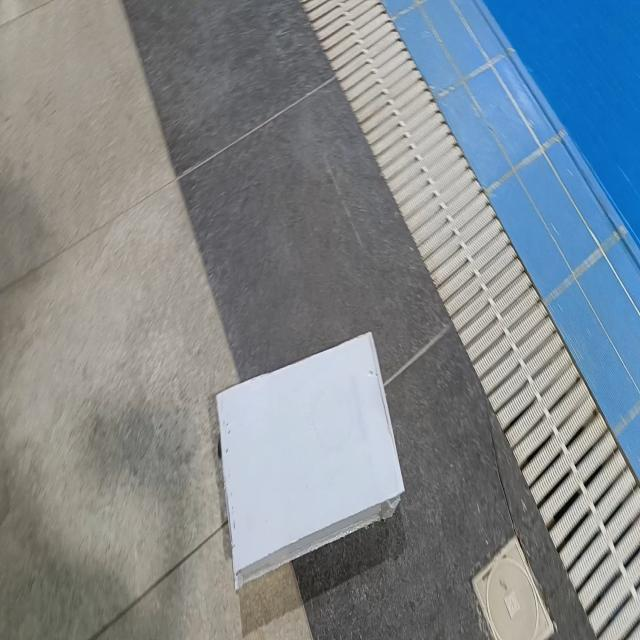Cuboid: (214, 329, 406, 591)
